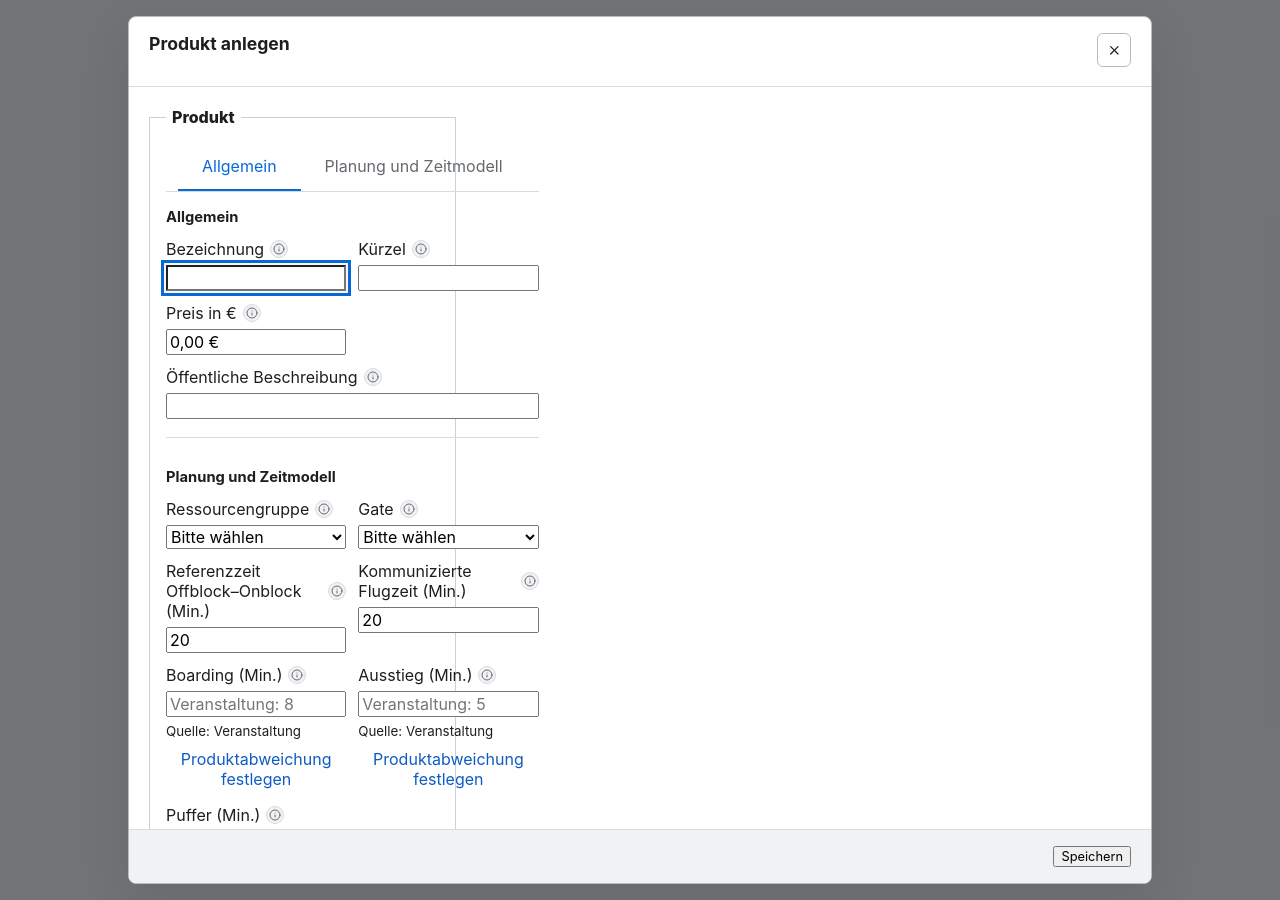
Test case: product editor dialog › normalizes the informational ticket price on blur
The image size is (1280, 900).
Step 1. Replace the text in the field labelled "Preis in €" with "12,5" → (256, 342), box [166, 329, 346, 355]
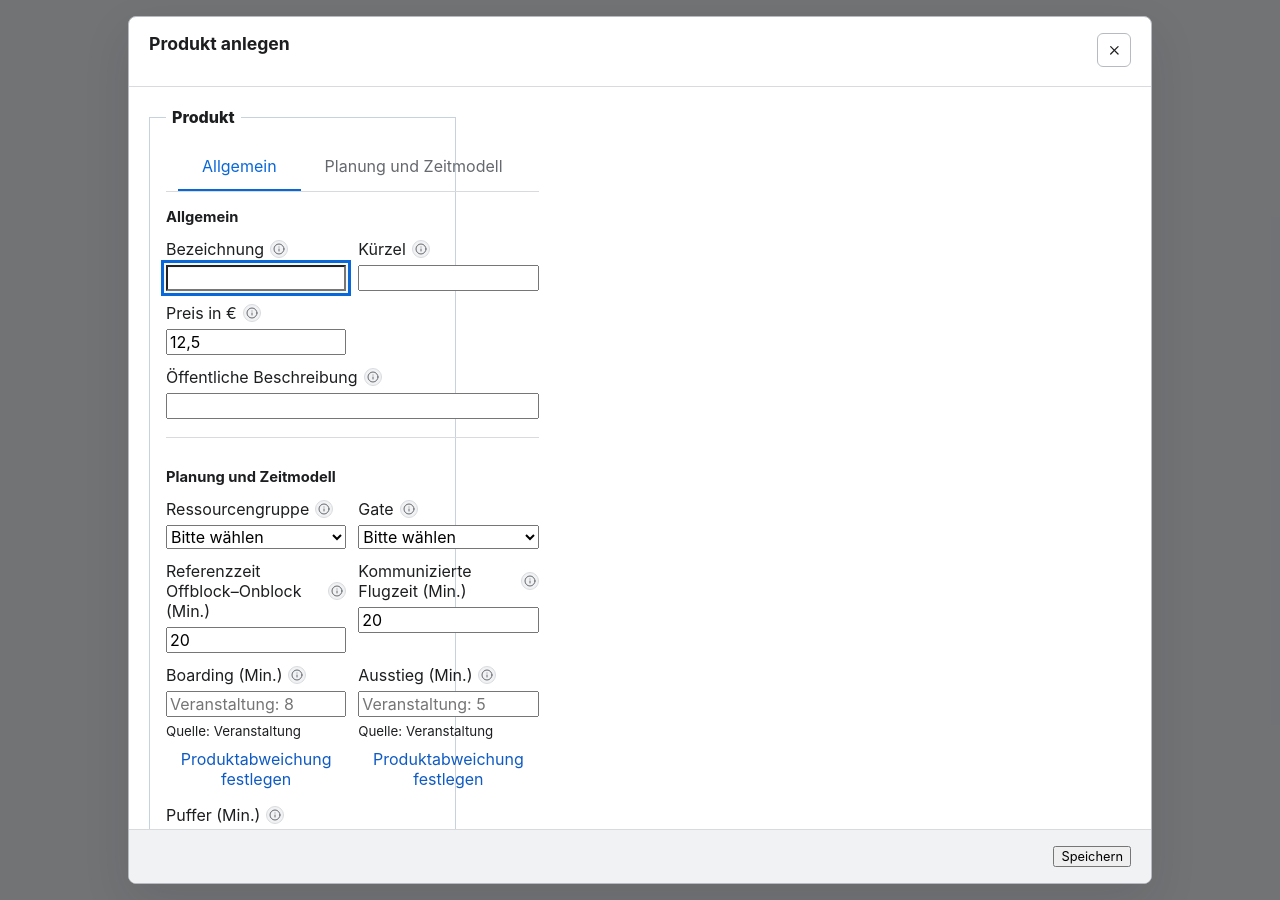
Step 2. Leave the field labelled "Preis in €", box [166, 329, 346, 355]
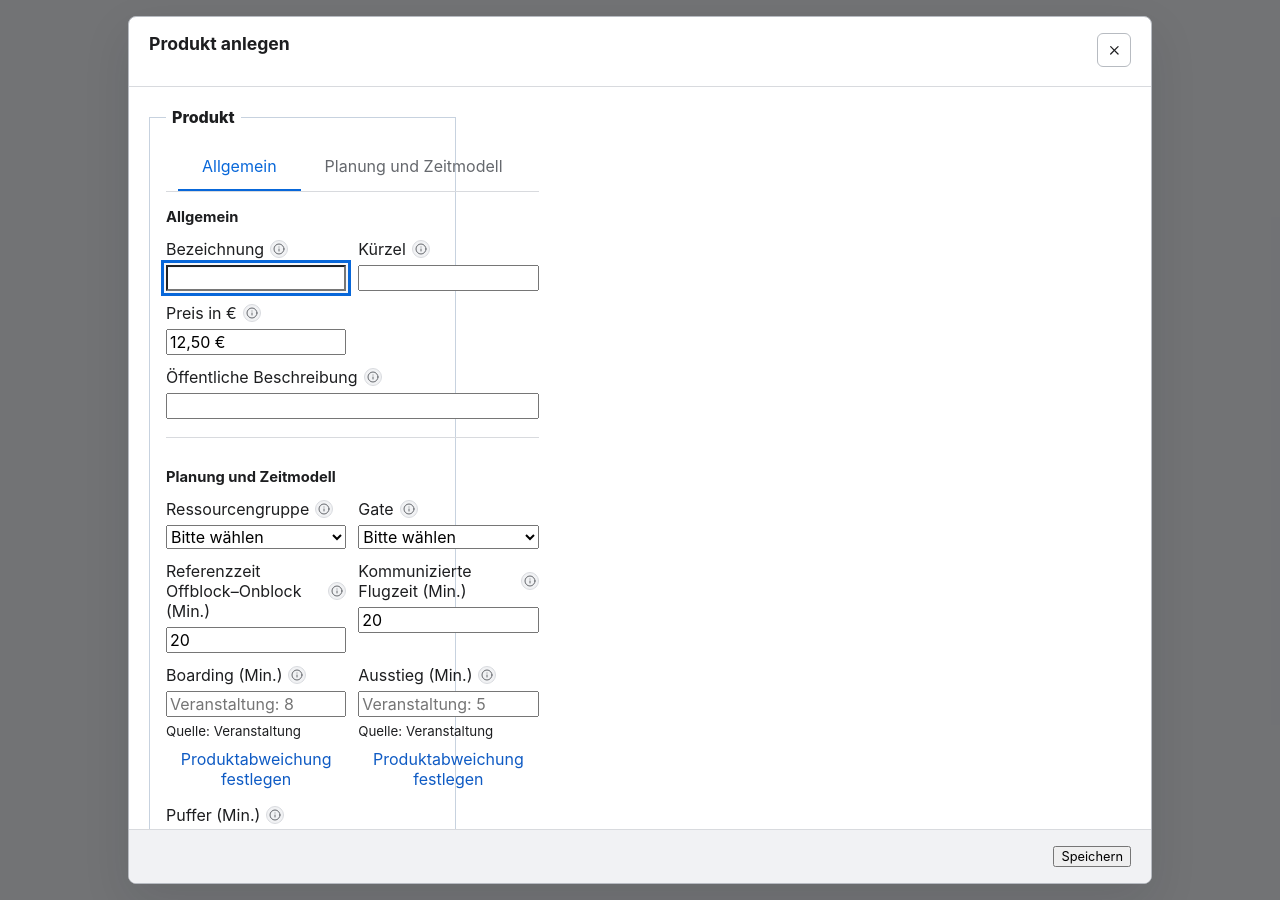
Now the field labelled "Preis in €" holds "12,50 €", box [166, 329, 346, 355]
